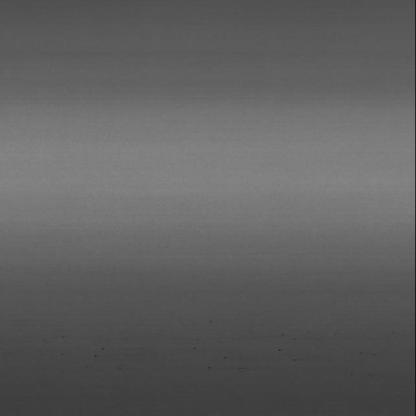inclusion: (272, 333, 300, 364), (196, 358, 246, 371), (90, 345, 112, 361), (51, 331, 72, 342)
